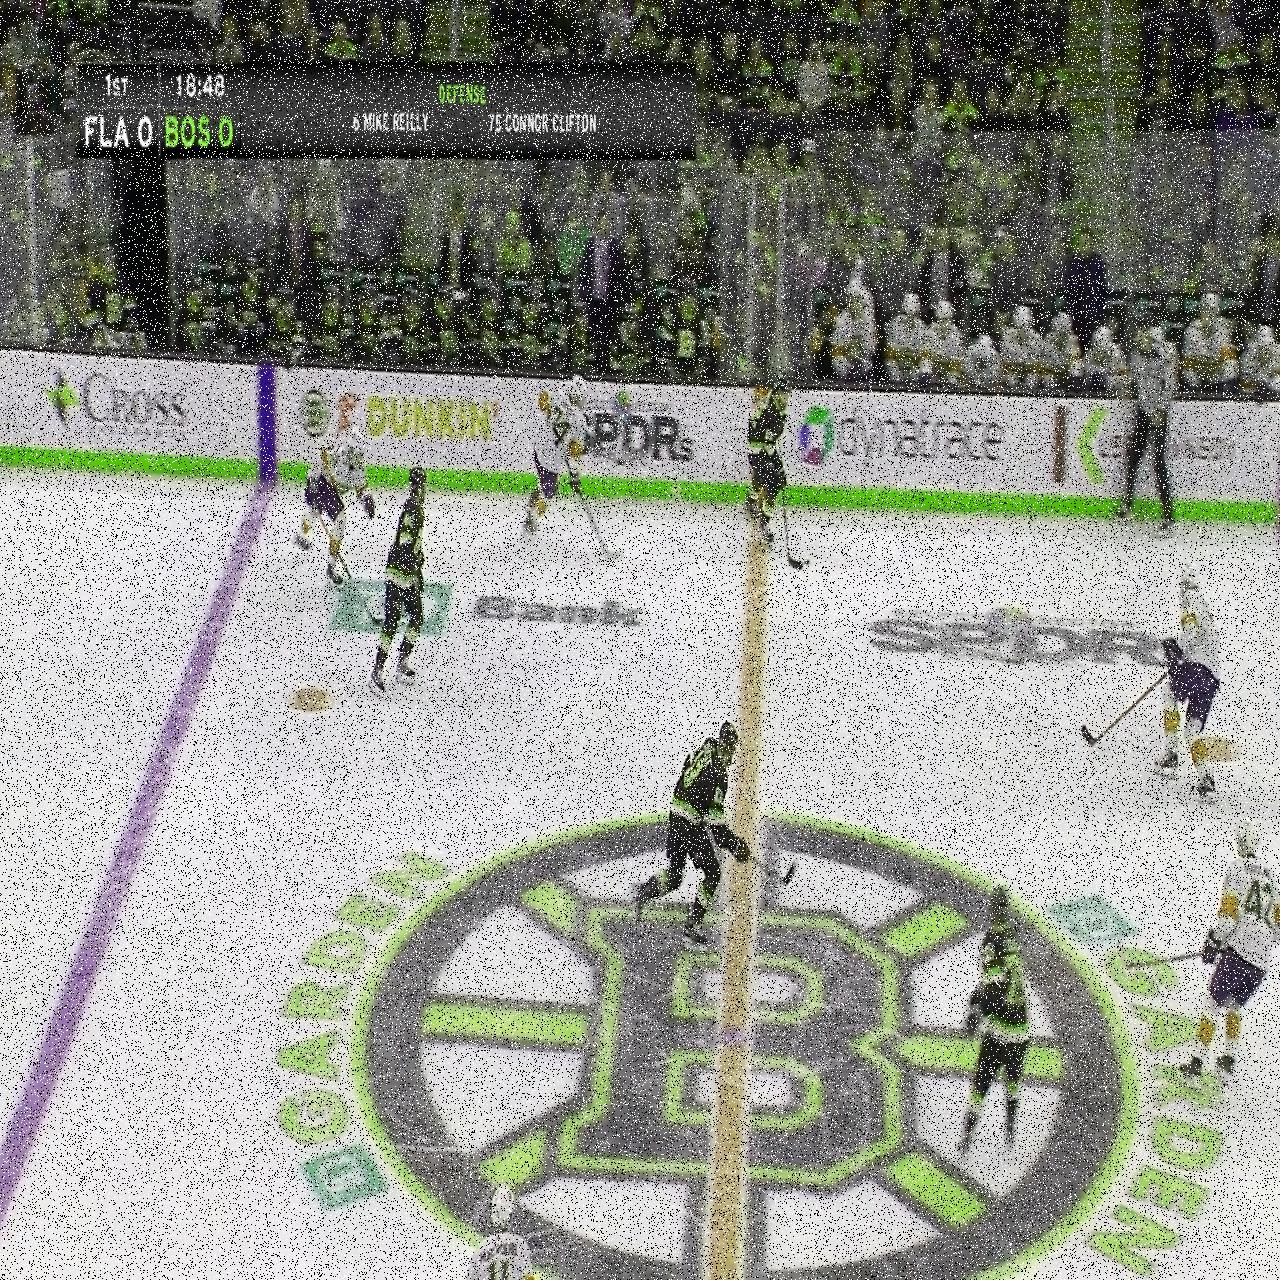Ad: (867, 604, 1173, 690), (333, 568, 645, 645), (1053, 399, 1246, 510), (795, 397, 1009, 485), (36, 352, 198, 456), (334, 382, 499, 468), (567, 390, 702, 474)
